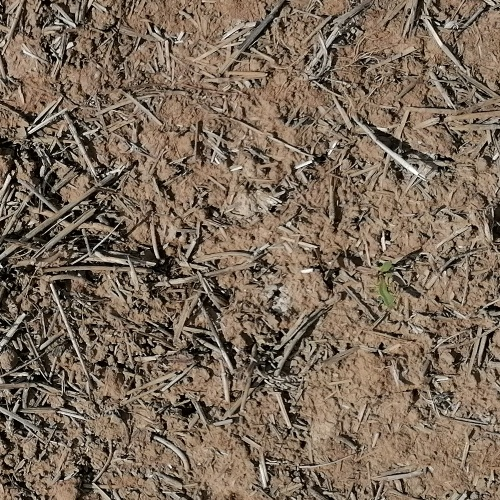beet: (375, 260, 398, 310)
